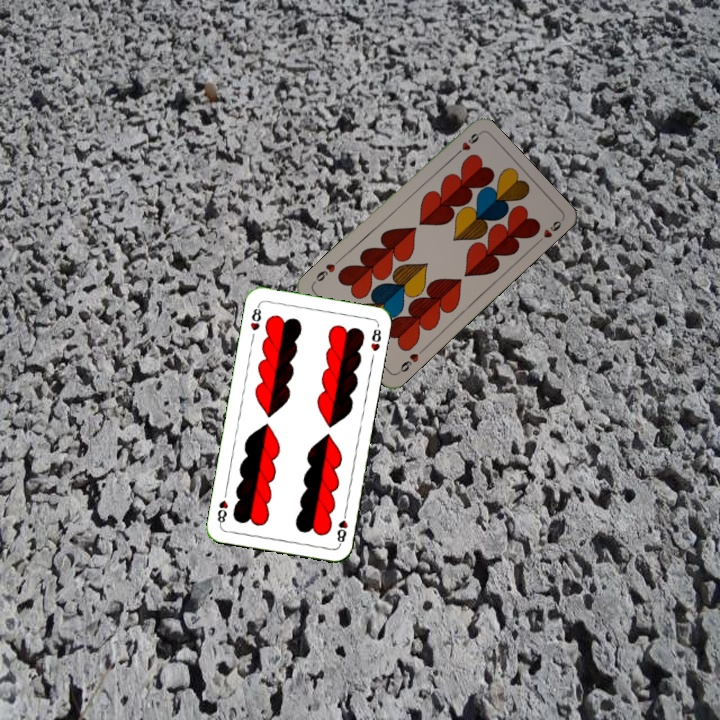H8: (333, 507, 350, 548), (246, 301, 264, 333)
H9: (393, 345, 426, 376), (449, 129, 482, 160)
